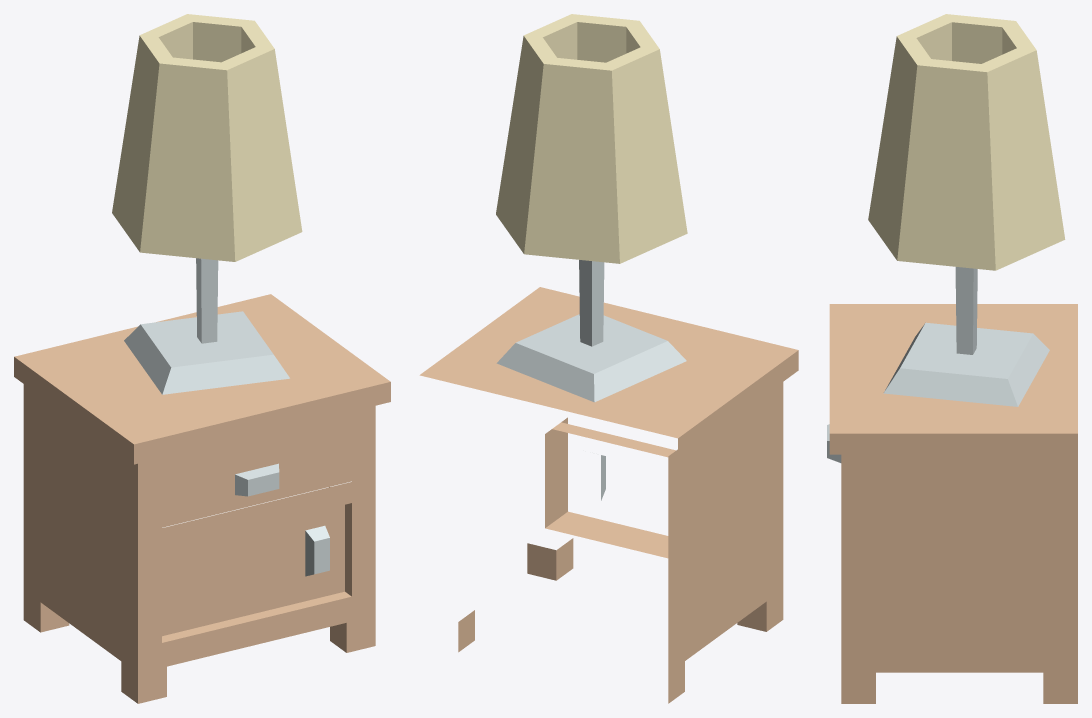
The model's file is comodino.glb.
The picture shows the model from 3 angles, left to right: view 1: azimuth 30°, elevation 25°; view 2: azimuth 150°, elevation 25°; view 3: azimuth 270°, elevation 25°; orthographic projection. The views are drawn at different scales.
Parts seen in each view (by area): view 1: cabinetBedDrawer(Clone), lampRoundTable(Clone), door, drawer; view 2: cabinetBedDrawer(Clone), lampRoundTable(Clone), door; view 3: cabinetBedDrawer(Clone), lampRoundTable(Clone).
Part boxes in pixels (x1=…): cabinetBedDrawer(Clone): x1=14, y1=294, x2=390, y2=703; lampRoundTable(Clone): x1=112, y1=14, x2=302, y2=394; door: x1=162, y1=504, x2=344, y2=636; drawer: x1=162, y1=431, x2=351, y2=527; cabinetBedDrawer(Clone): x1=419, y1=287, x2=798, y2=703; lampRoundTable(Clone): x1=496, y1=14, x2=687, y2=402; door: x1=552, y1=422, x2=675, y2=500; cabinetBedDrawer(Clone): x1=829, y1=304, x2=1077, y2=703; lampRoundTable(Clone): x1=868, y1=14, x2=1065, y2=406.
Size of the model in its own units: 0.266 by 0.5798 by 0.2173.
